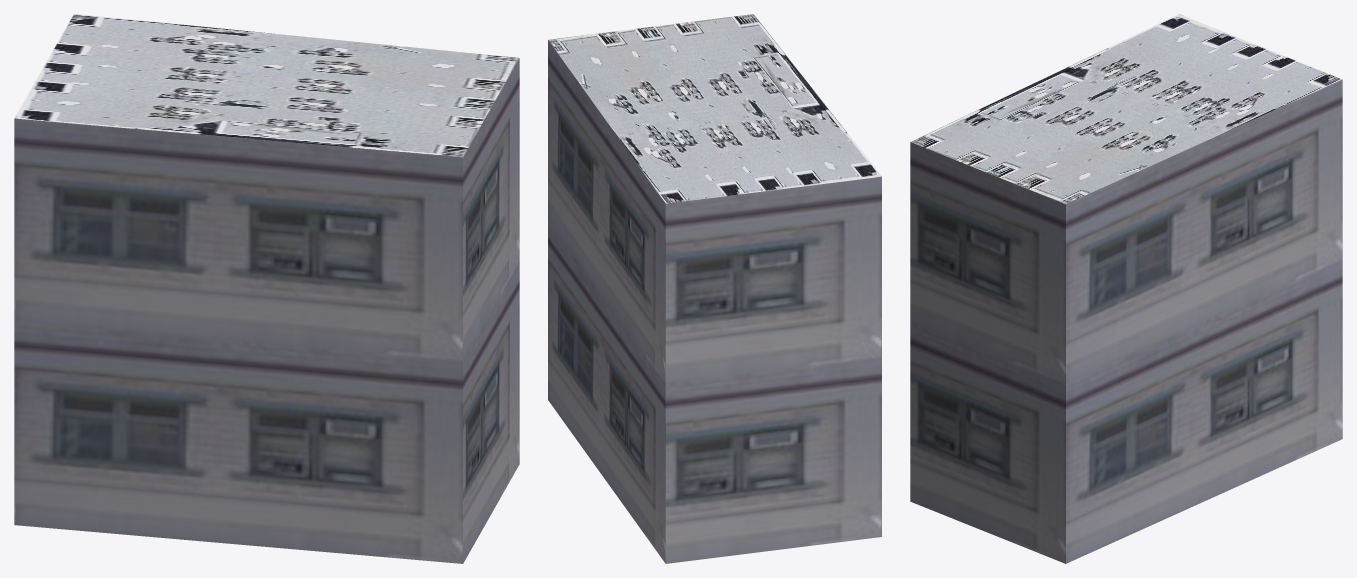
Rendered from ResTex__1658.fbx.
3 renders of one model, left to right at view 1: azimuth 30°, elevation 25°; view 2: azimuth 150°, elevation 25°; view 3: azimuth 270°, elevation 25°, orthographic. The views are drawn at different scales.
Parts seen in each view (by area): view 1: CityEngineMaterial_1_m, CityEngineMaterial_2_m; view 2: CityEngineMaterial_1_m, CityEngineMaterial_2_m; view 3: CityEngineMaterial_1_m, CityEngineMaterial_2_m.
Boxes of the visible parts, left/top/right/bottom form: CityEngineMaterial_1_m: left=14, top=58, right=519, bottom=563; CityEngineMaterial_2_m: left=14, top=14, right=519, bottom=157; CityEngineMaterial_1_m: left=548, top=40, right=881, bottom=563; CityEngineMaterial_2_m: left=548, top=14, right=881, bottom=203; CityEngineMaterial_1_m: left=910, top=79, right=1342, bottom=563; CityEngineMaterial_2_m: left=911, top=14, right=1341, bottom=204.
Size of the model in its own units: 6.81 by 6 by 6.53.
2 materials, 2 textured.
